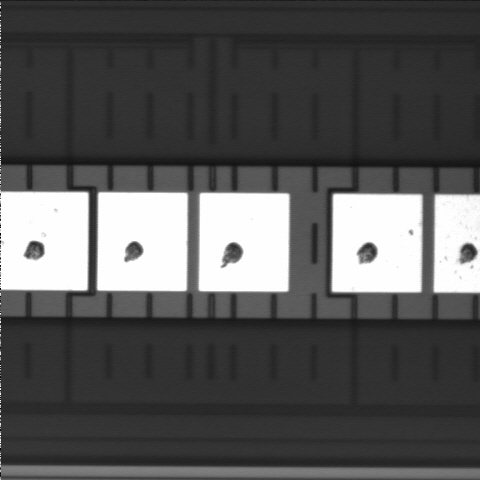pad: (97, 192, 188, 291), (199, 193, 289, 292), (332, 194, 422, 292)
